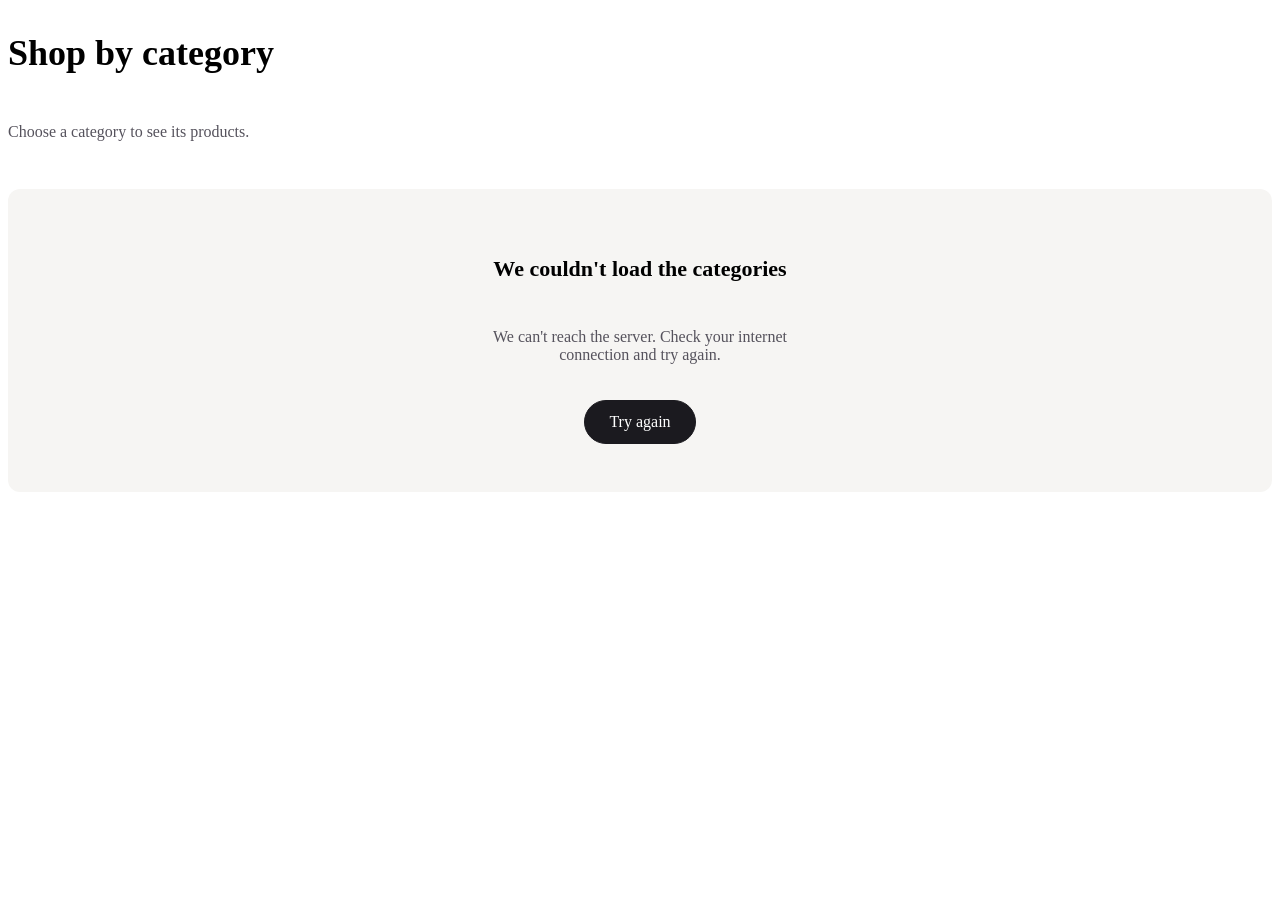
Test case: SCRUM-42 error feedback with real backend error responses › page load failures › shows the matching error after the server being unreachable and recovers on Try again
Expected: the message shows "We couldn't load the categories", [493,256,787,281]
Expected: the message shows "We can't reach the server. Check your internet connection and try again.", [493,328,787,363]
Click the button "Try again" at coordinates (640, 422), box [584,400,696,444]
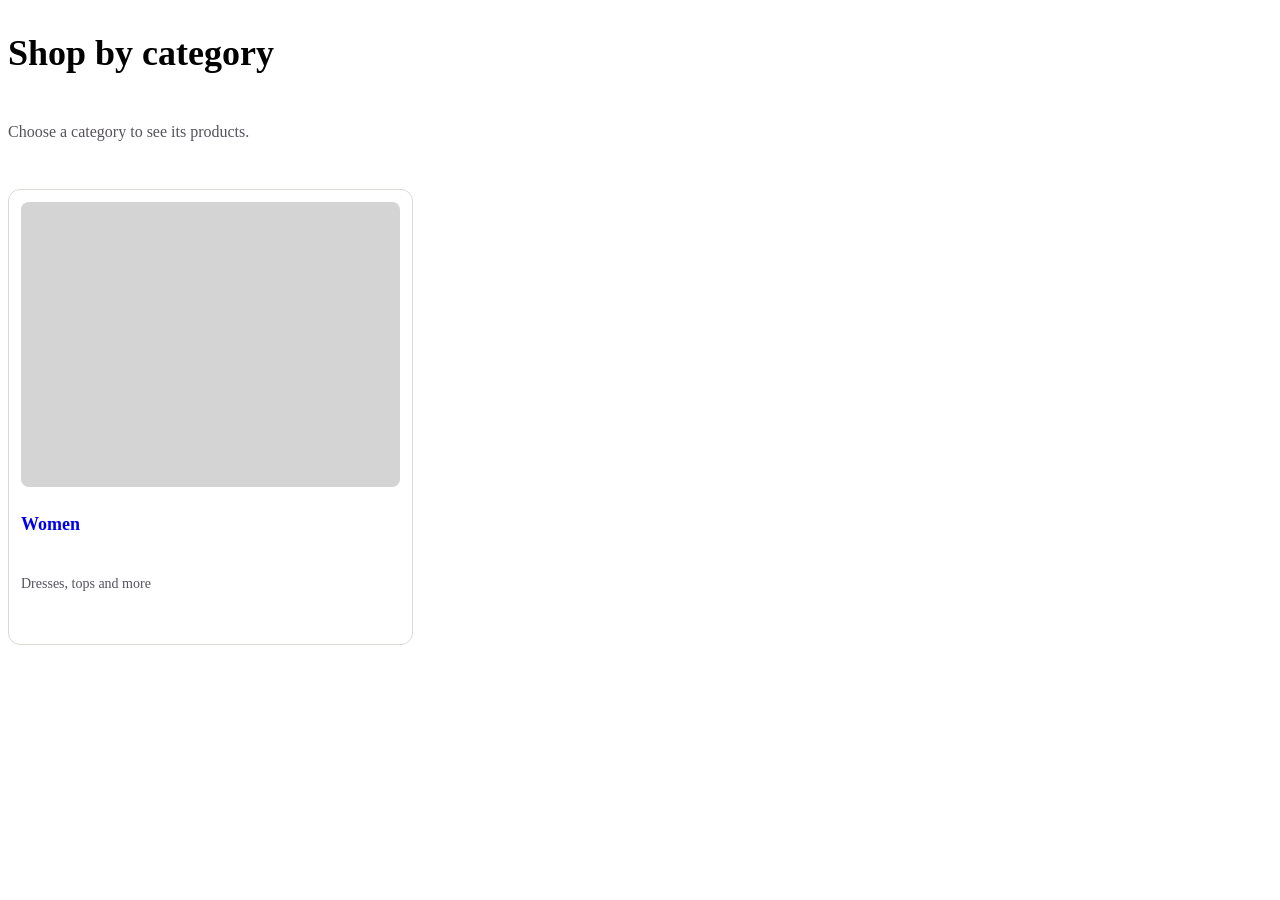
Now the link "Women" is shown, box [21,514,80,534]
Now the message is gone
